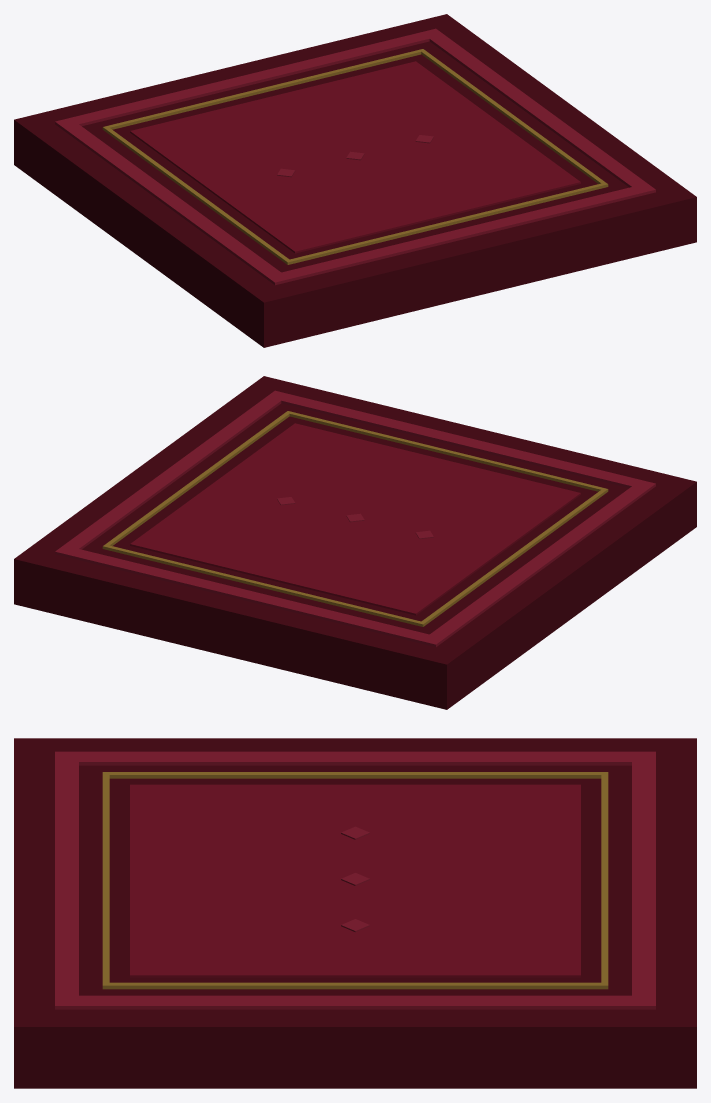
File: floor_carpet.glb
The picture shows the model from 3 angles, top to bottom: view 1: azimuth 30°, elevation 25°; view 2: azimuth 150°, elevation 25°; view 3: azimuth 270°, elevation 25°; orthographic projection. The views are drawn at different scales.
Parts seen in each view (by area): view 1: floor_carpet; view 2: floor_carpet; view 3: floor_carpet.
Boxes of the visible parts, x1=… form: floor_carpet: x1=14, y1=14, x2=696, y2=347; floor_carpet: x1=14, y1=376, x2=696, y2=709; floor_carpet: x1=14, y1=738, x2=696, y2=1088.
Bounding box in the file's own units: 1 × 0.106 × 1.
